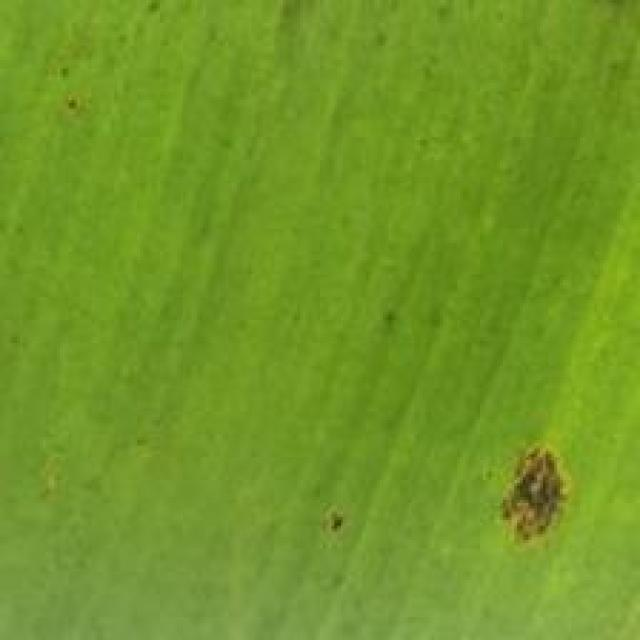Downey_mildrew: (462, 414, 592, 594), (308, 481, 361, 581)
